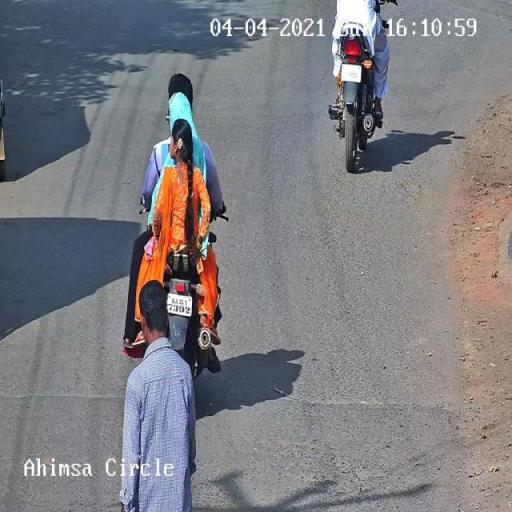tripple riding: (138, 74, 230, 264)
